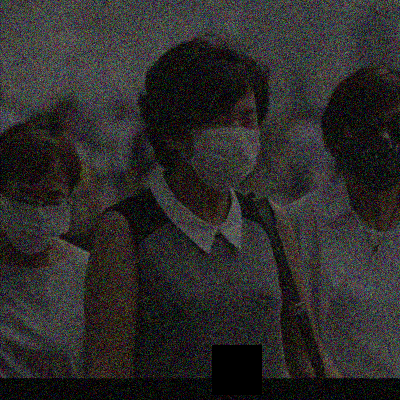with_mask: (176, 106, 261, 188), (0, 183, 69, 255), (341, 110, 399, 193)
